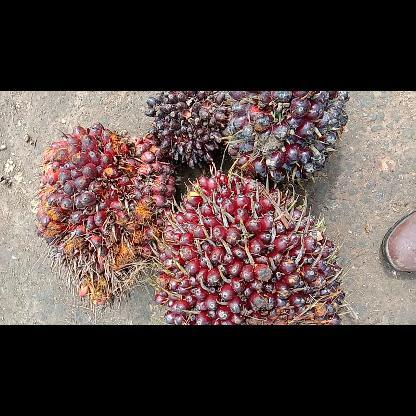Kurang masak: (154, 170, 348, 324), (224, 92, 348, 190)
TBS abnormal: (142, 91, 235, 171)
TBS masak: (30, 120, 176, 312)
